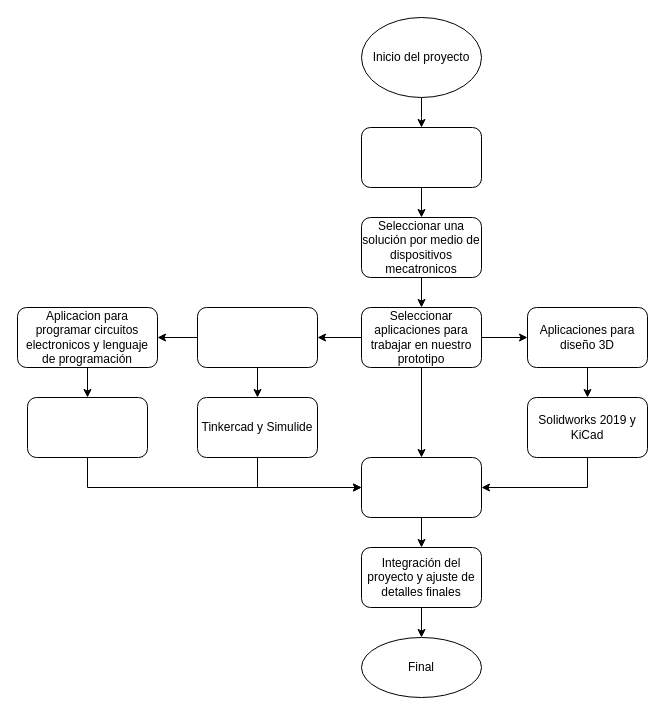
Image size: 665x715. Some labels were removed from this diagram. Each missing label, with the centre of its shape:
"Analisis del problema" belongs at point (421, 157).
"Aplicaciones para creación de circuitos electrónicos" belongs at point (257, 337).
"Creación de circuitos, modelos 3D y programación de tarjetas electrónicas" belongs at point (421, 487).
"Visual Studio Code Lengaje Python" belongs at point (87, 427).
